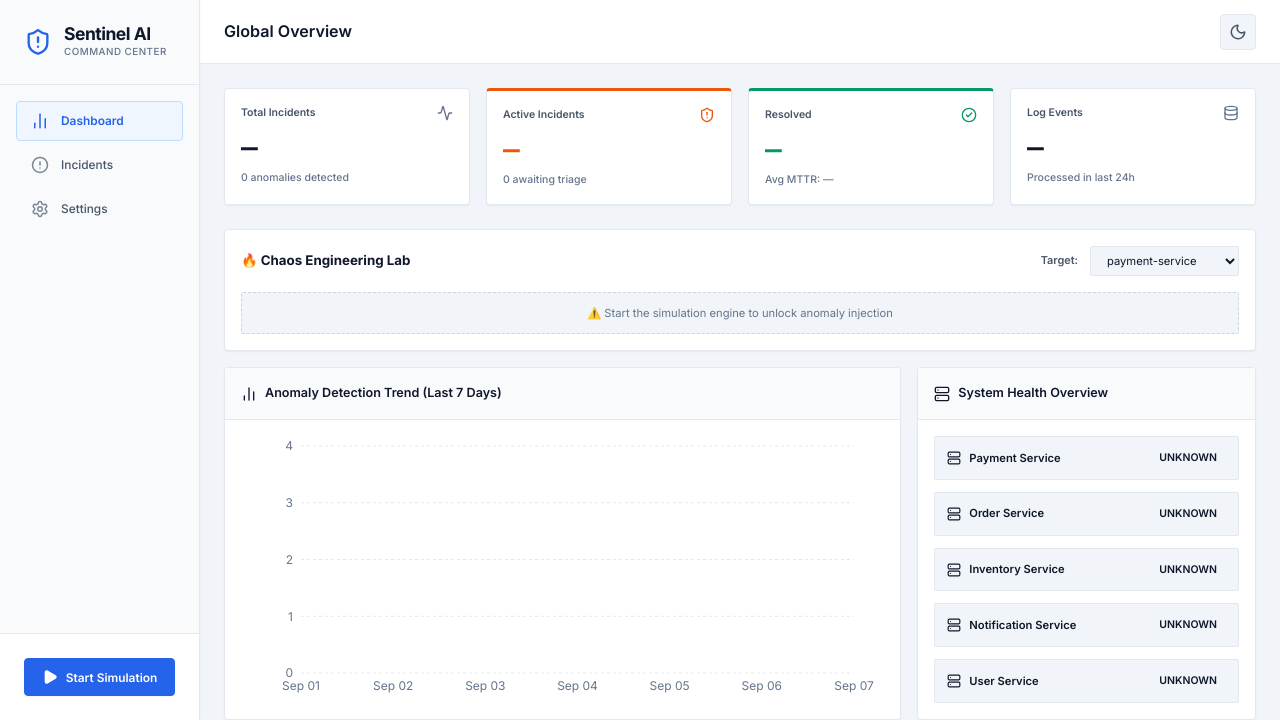
Test case: App › navigates to incidents view and shows incidents
Click the text "Incidents". click: coordinates (72, 165)
box: [31,156,113,174]
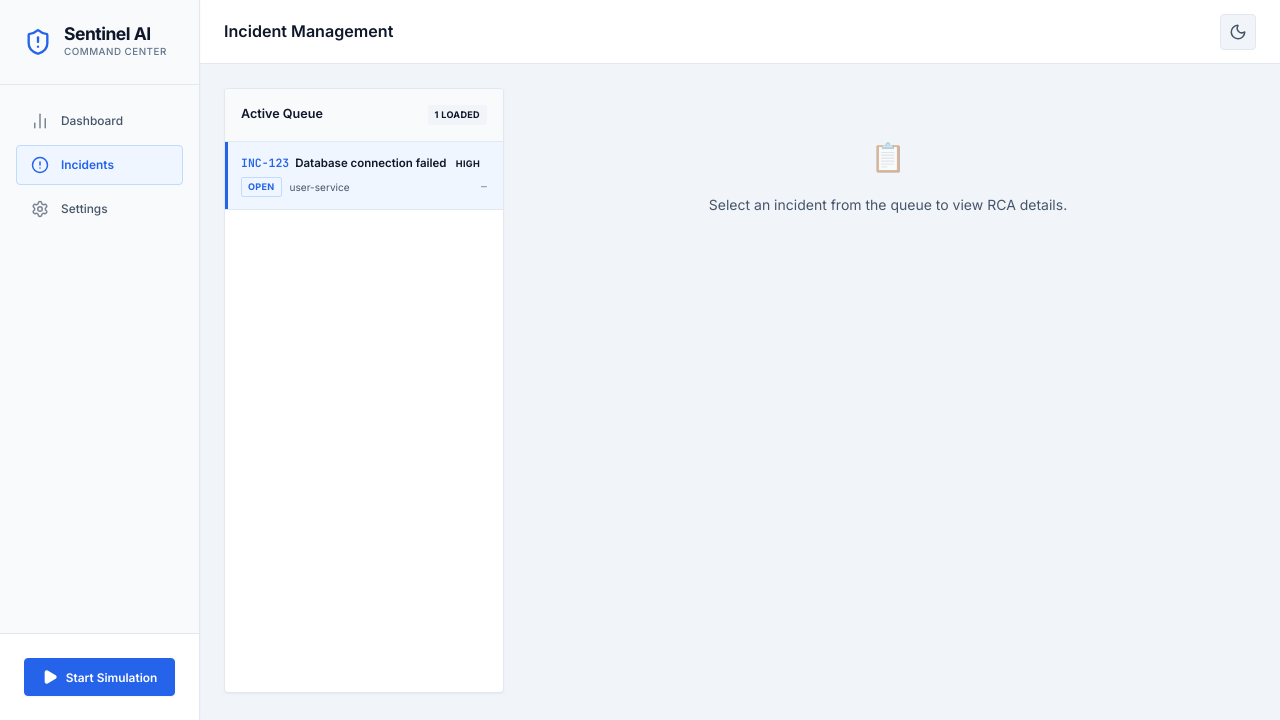
Check: the text "Database connection failed" is shown, box [295,156,446,170]
